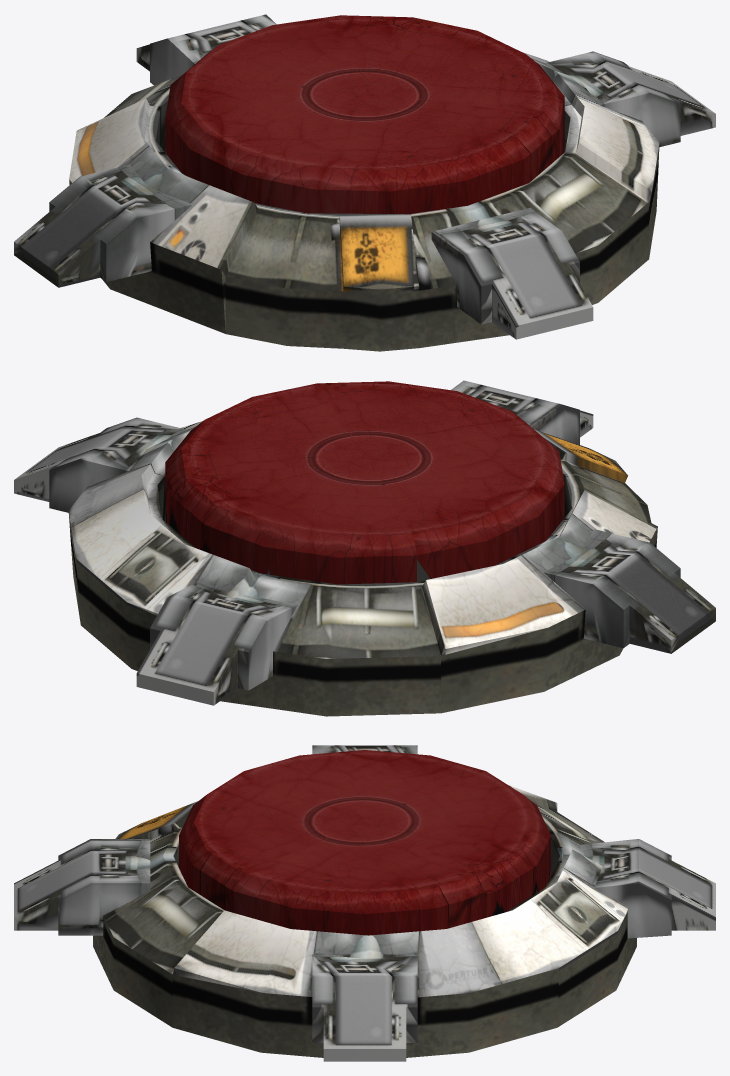
File: PortalButton.fbx
3 views of the same model, one above another, from view 1: azimuth 30°, elevation 25°; view 2: azimuth 150°, elevation 25°; view 3: azimuth 270°, elevation 25° (orthographic). The views are drawn at different scales.
Visible parts, largest first — view 1: ButtonBase, ButtonActual; view 2: ButtonBase, ButtonActual; view 3: ButtonBase, ButtonActual.
Boxes of the visible parts, <box> form: ButtonBase: <box>14,14,715,351</box>; ButtonActual: <box>165,15,564,214</box>; ButtonBase: <box>14,380,715,716</box>; ButtonActual: <box>165,381,564,584</box>; ButtonBase: <box>14,745,715,1061</box>; ButtonActual: <box>179,750,550,935</box>.
Size of the model in its own units: 123 by 123 by 23.92.
